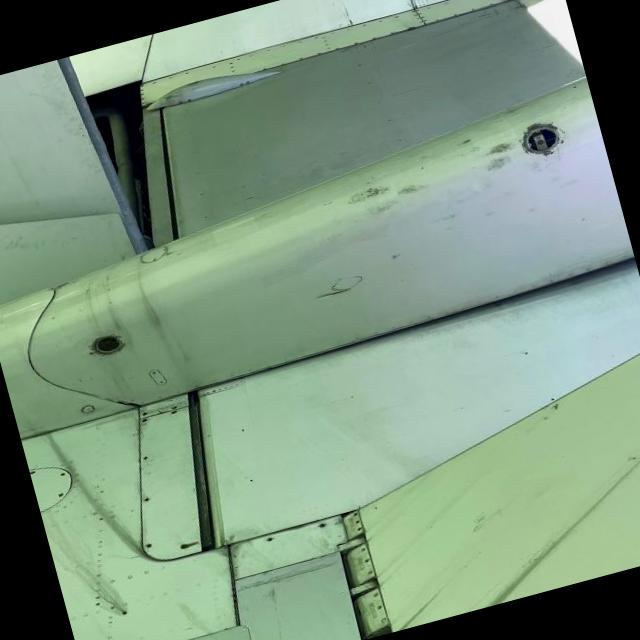crack: (306, 280, 354, 304)
